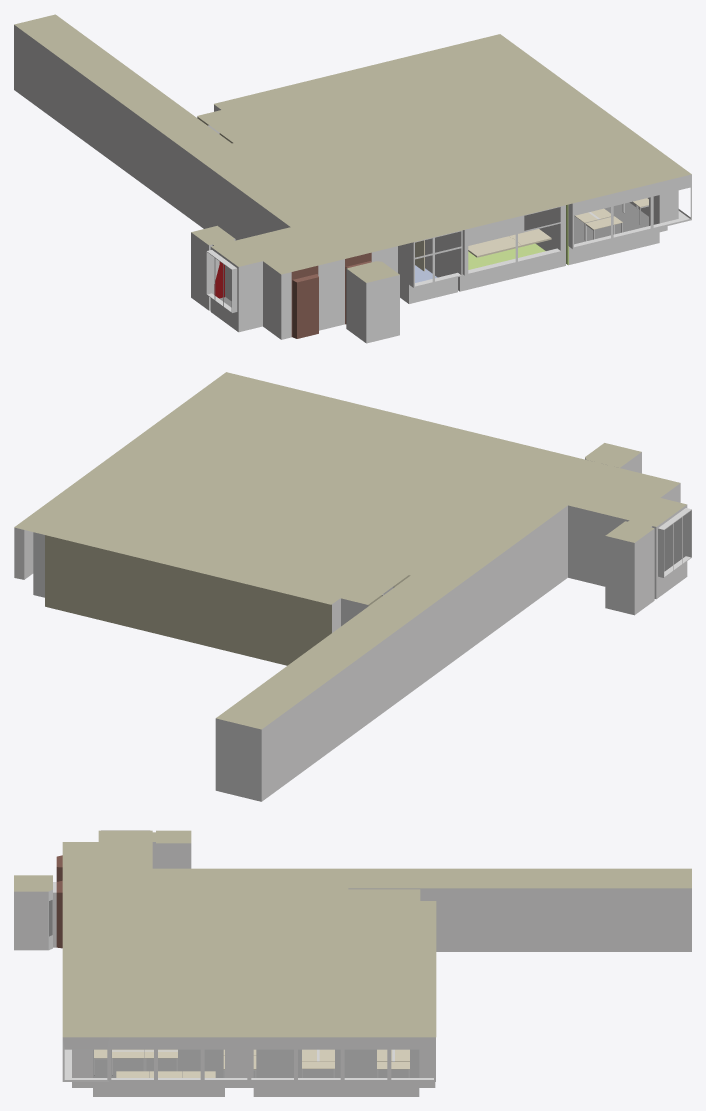
Rendered from adino.gltf.
3 renders of one model, top to bottom at view 1: azimuth 30°, elevation 25°; view 2: azimuth 150°, elevation 25°; view 3: azimuth 270°, elevation 25°, orthographic. The views are drawn at different scales.
Visible parts, largest first — view 1: 天井, 建物, 立方体.010; view 2: 天井, 建物; view 3: 天井, 建物, 立方体.013, 立方体.012, 立方体.007.
Boxes of the visible parts, x1=… form: 天井: x1=14, y1=14, x2=691, y2=282; 建物: x1=14, y1=25, x2=691, y2=343; 立方体.010: x1=468, y1=229, x2=551, y2=257; 天井: x1=14, y1=372, x2=686, y2=729; 建物: x1=14, y1=452, x2=691, y2=801; 天井: x1=14, y1=830, x2=691, y2=1037; 建物: x1=14, y1=830, x2=691, y2=1096; 立方体.013: x1=112, y1=1049, x2=177, y2=1075; 立方体.012: x1=116, y1=1071, x2=215, y2=1077; 立方体.007: x1=302, y1=1049, x2=334, y2=1061.
Size of the model in its own units: 17.74 by 2.52 by 24.28.
